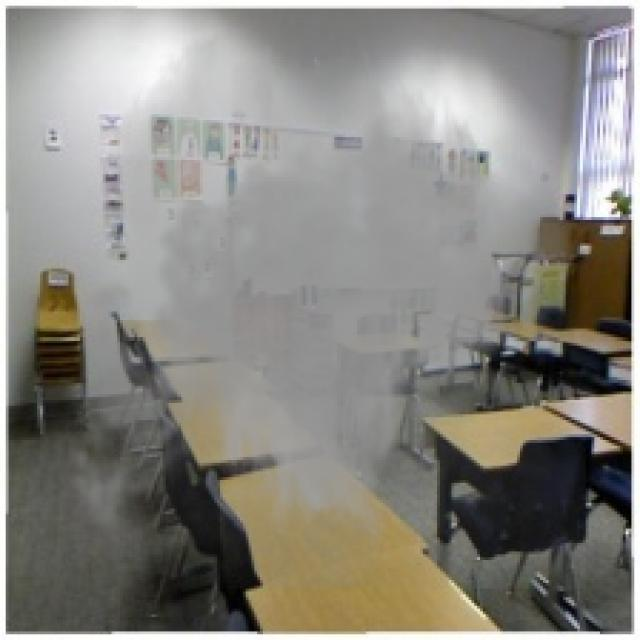Smoke: (51, 22, 586, 588)
